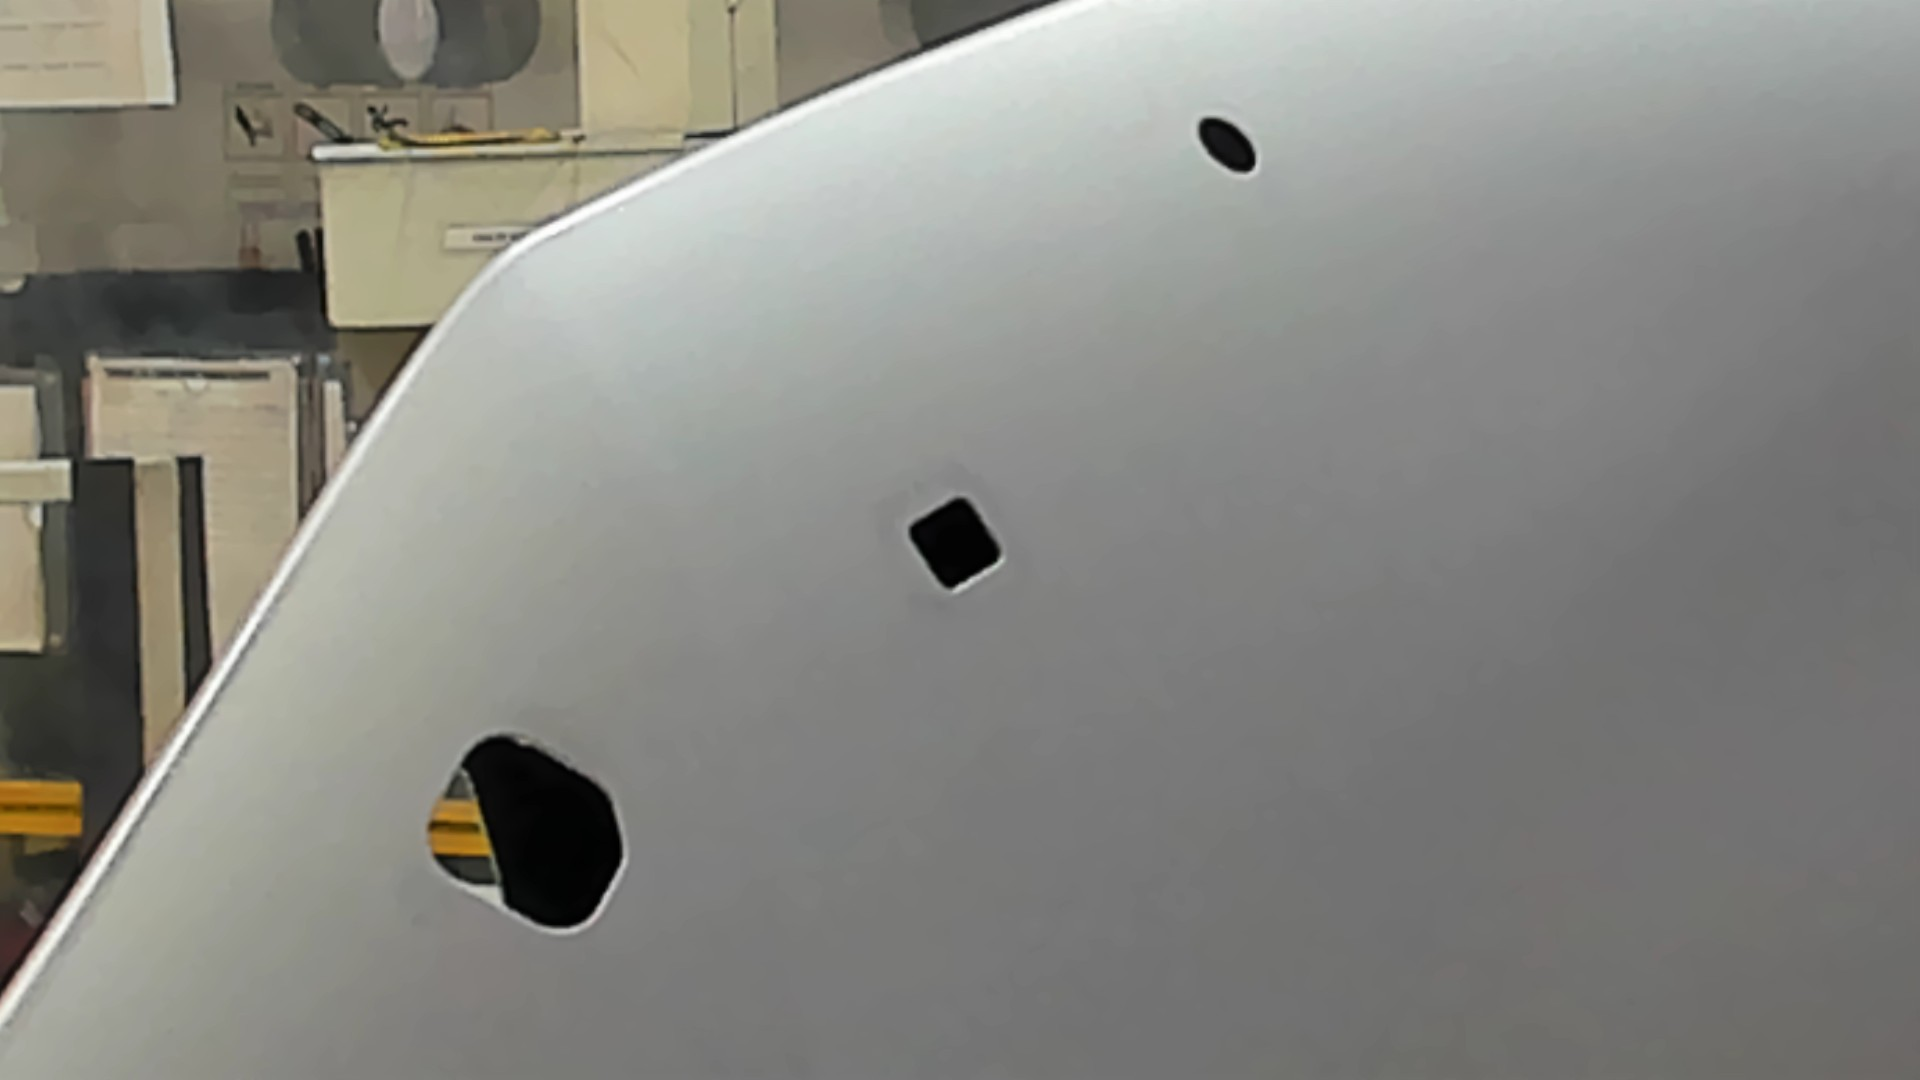Agujero: (906, 495, 1004, 596), (1196, 115, 1258, 175)
Agujerote: (425, 732, 626, 938)
